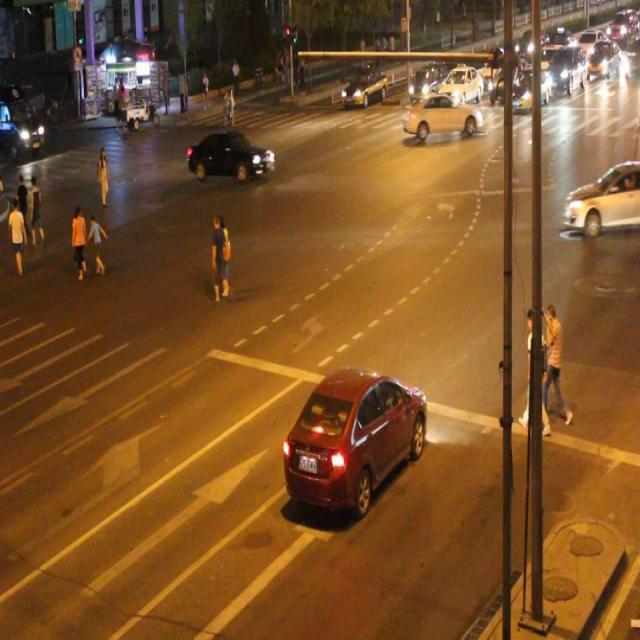car: (276, 363, 449, 528), (562, 152, 640, 248), (194, 110, 274, 196), (401, 83, 487, 161), (544, 36, 590, 100), (348, 69, 400, 124), (504, 71, 556, 122), (435, 54, 483, 104), (602, 0, 640, 44), (590, 34, 622, 83)
